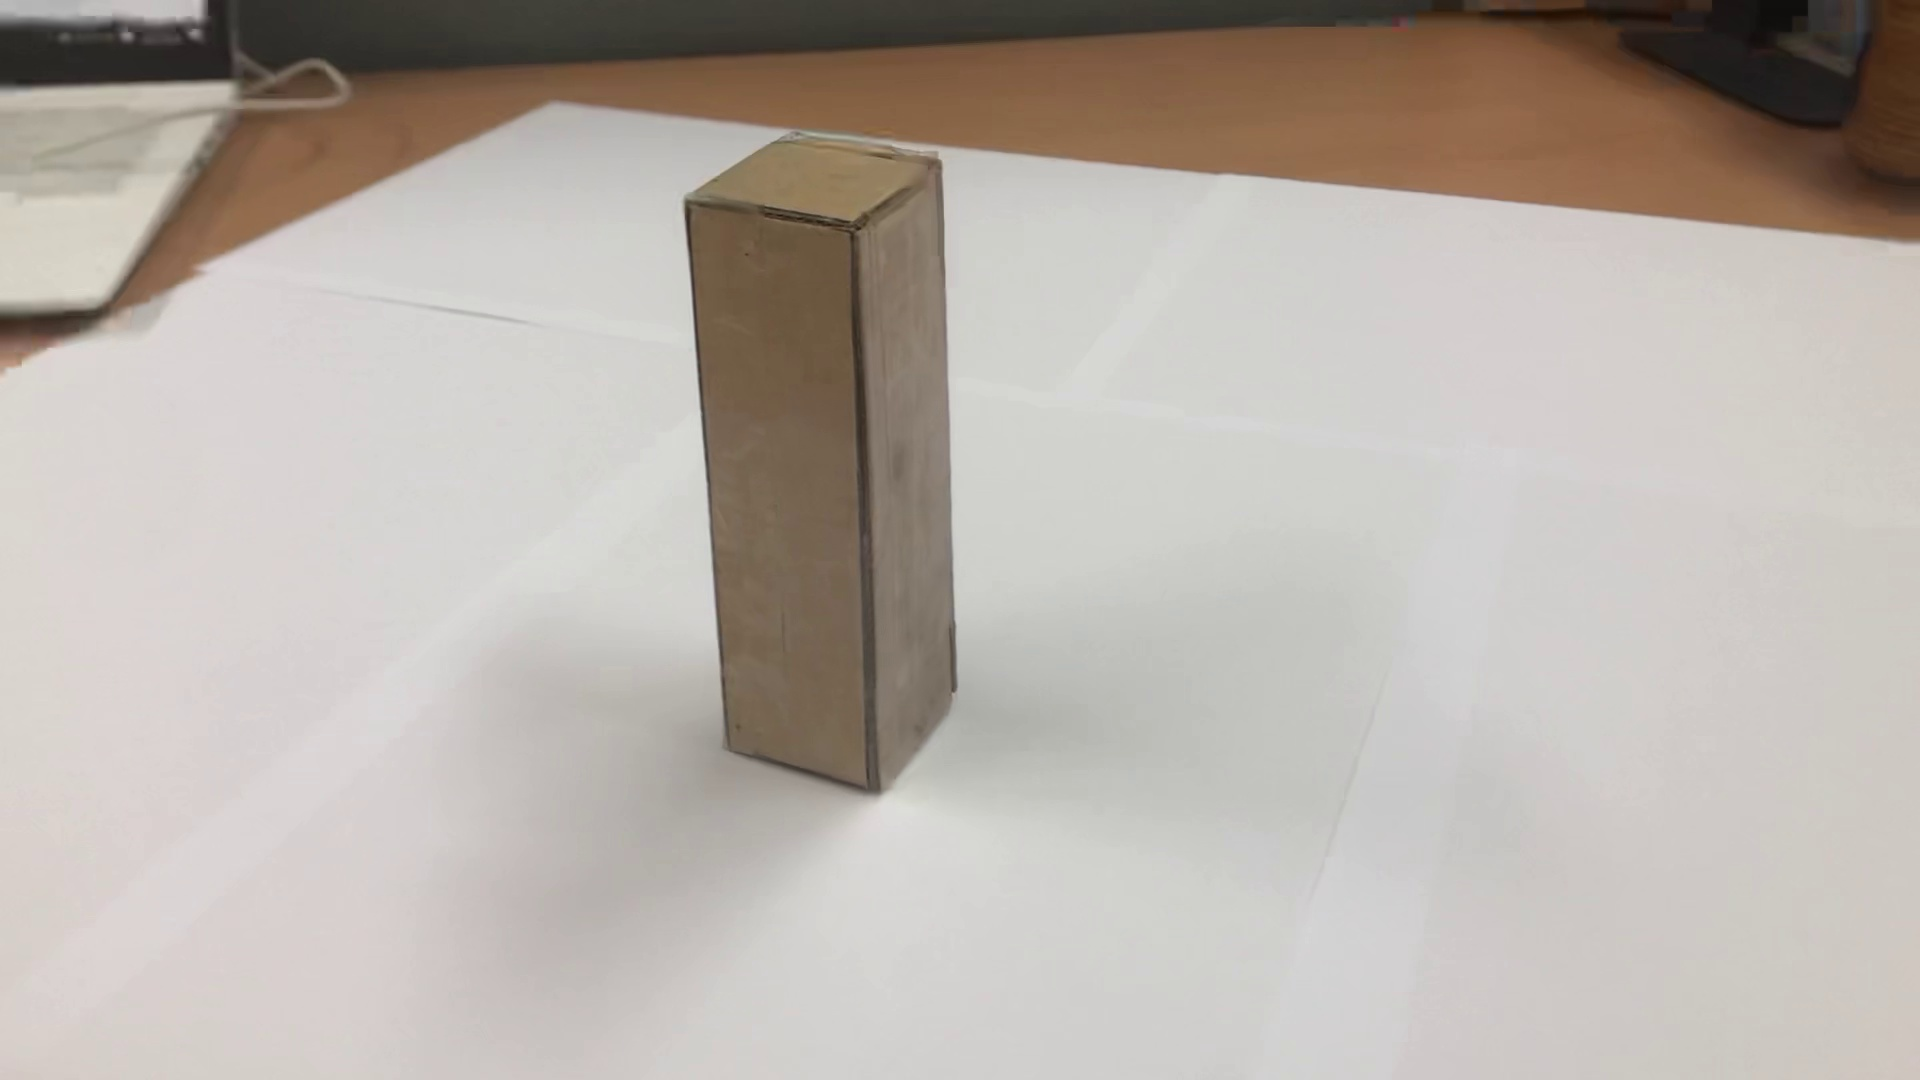box: (659, 109, 993, 831)
